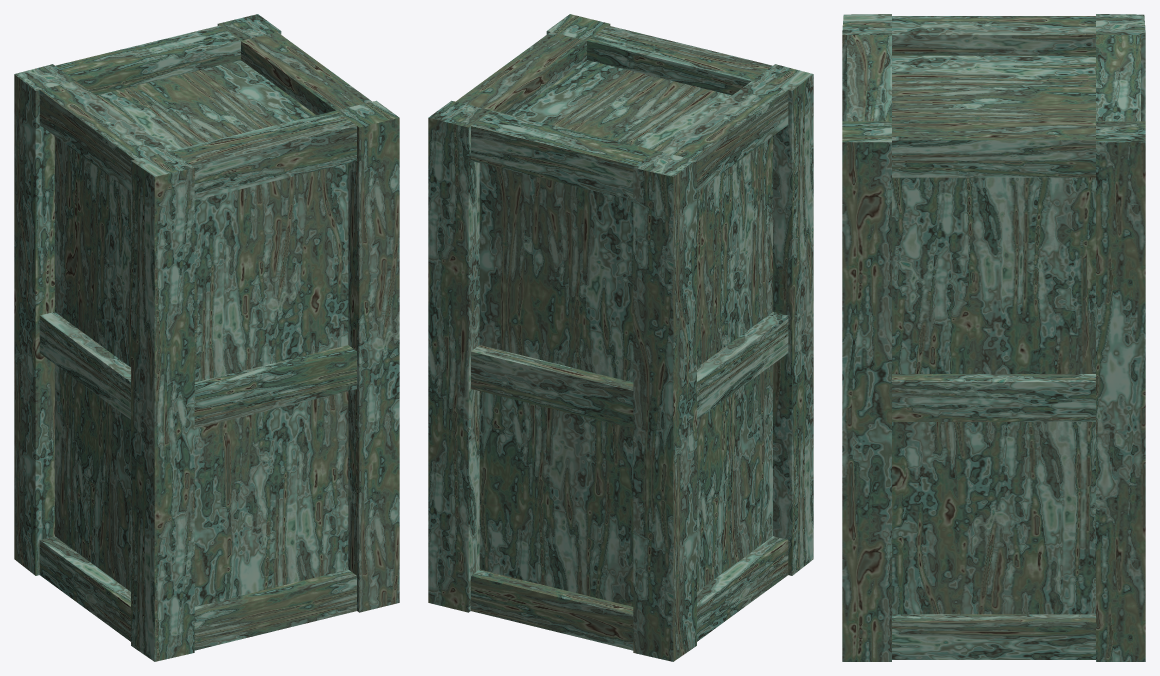
The model's file is Crate_1x2.FBX.
3 views of the same model, side by side, from view 1: azimuth 30°, elevation 25°; view 2: azimuth 150°, elevation 25°; view 3: azimuth 270°, elevation 25° (orthographic). The views are drawn at different scales.
Parts seen in each view (by area): view 1: Box025; view 2: Box025; view 3: Box025.
Boxes of the visible parts, box(x1,y1,x2,y2) form: Box025: box(14, 14, 399, 661); Box025: box(428, 14, 813, 661); Box025: box(842, 14, 1145, 661).
Bounding box in the file's own units: 103 × 195 × 103.
